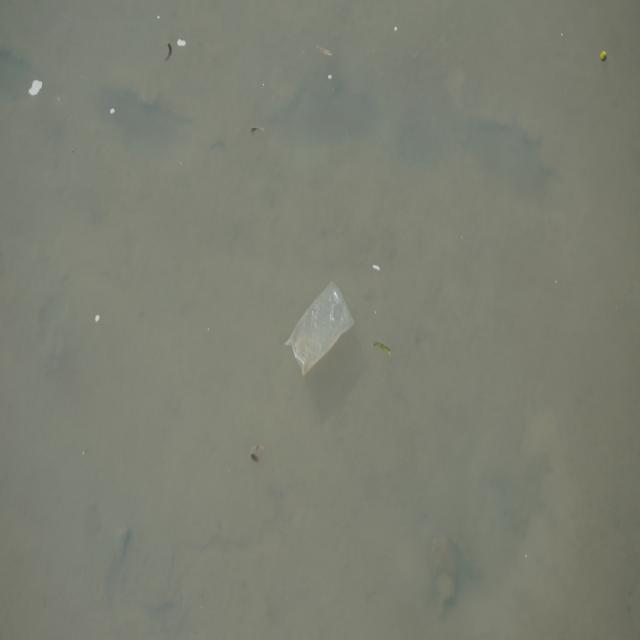Kantong Plastik: (284, 279, 357, 381)
